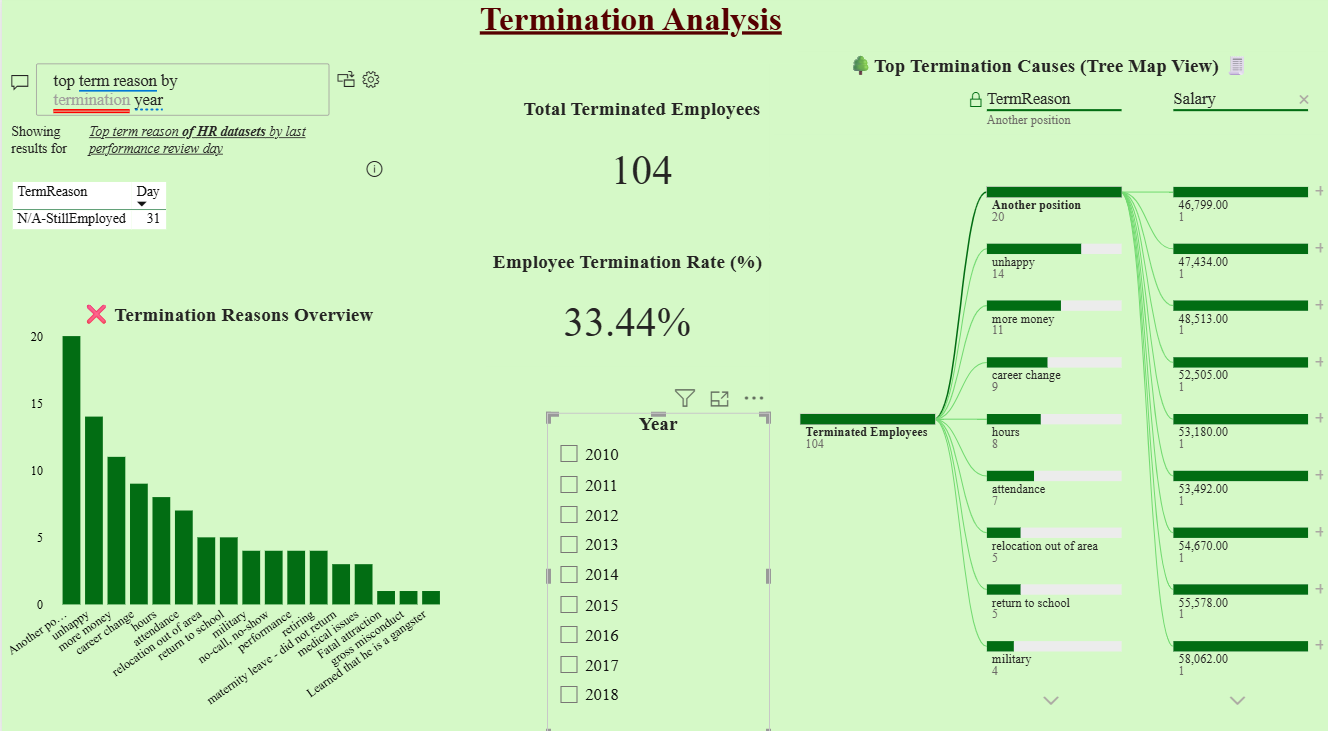

This screenshot's page, from the dashboard's own definition file:
{"tool":"powerbi","page":{"name":"Page 3","canvas":[1280,720],"ordinal":2},"visuals":[{"type":"columnChart","title":"\t❌ Termination Reasons Overview","fields":{"Category":["HRDataset.TermReason"],"Y":["HRDataset.Terminated Employees"]},"box":[0,295.6,436.7,407.8],"z":0},{"type":"qnaVisual","box":[0,42.2,372.8,220.8],"z":1000},{"type":"card","title":"Total Terminated Employees","fields":{"Values":["HRDataset.Terminated Employees"]},"box":[476.5,100.1,282.3,114.6],"z":2000},{"type":"card","title":"Employee Termination Rate (%)","fields":{"Values":["HRDataset.Termination Rate"]},"box":[466.9,247.3,273.9,112.2],"z":3000},{"type":"slicer","title":"Year","fields":{"Values":["HRDataset.Terminated year"]},"box":[526,404.2,214.7,316.1],"z":4000},{"type":"decompositionTreeVisual","title":"\t🌳Top Termination Causes (Tree Map View)\t🧾","fields":{"Analyze":["HRDataset.Terminated Employees"],"ExplainBy":["HRDataset.TermReason","HRDataset.Salary","HRDataset.Sex"]},"box":[740.8,55.5,539.3,664.7],"z":5000},{"type":"textbox","box":[445.2,0,323.3,67.6],"z":6000}]}

Visuals, with their boxes in screenshot pixels (x1, y1, x2, y2), scaled from the page's 1280x720 canvas onto the 1328x731 screenshot:
"	❌ Termination Reasons Overview" columnChart: <bbox>0, 300, 453, 714</bbox>
qnaVisual: <bbox>0, 43, 387, 267</bbox>
"Total Terminated Employees" card: <bbox>494, 102, 787, 218</bbox>
"Employee Termination Rate (%)" card: <bbox>484, 251, 769, 365</bbox>
"Year" slicer: <bbox>546, 410, 768, 730</bbox>
"	🌳Top Termination Causes (Tree Map View)	🧾" decompositionTreeVisual: <bbox>769, 56, 1327, 730</bbox>
textbox: <bbox>462, 0, 797, 69</bbox>
